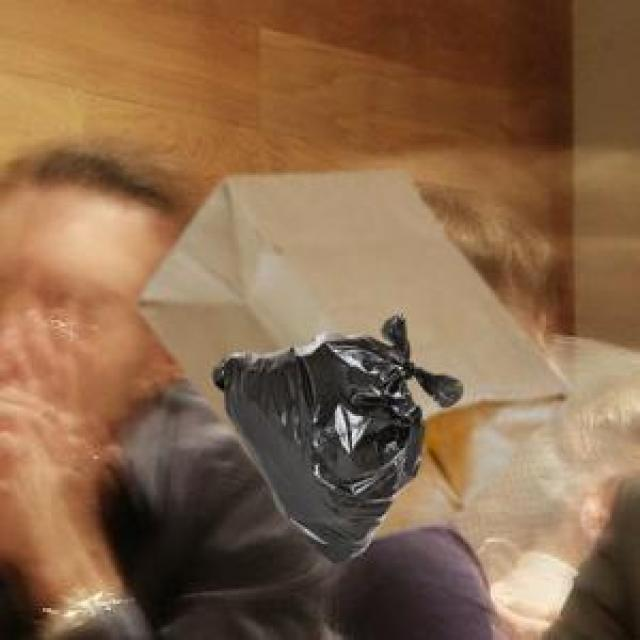miscellaneous trash: (209, 309, 459, 559)
paper: (134, 169, 565, 533)
